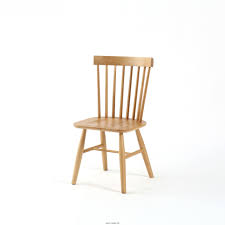tiyarina: (68, 52, 163, 197)
